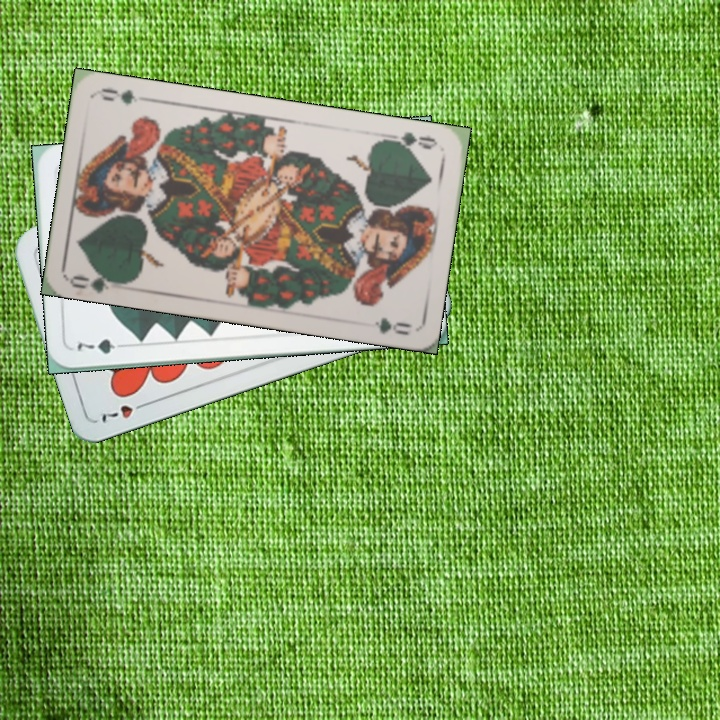G7: (71, 335, 131, 357)
GO: (67, 266, 127, 295), (383, 127, 440, 154)
H7: (96, 397, 152, 425)
